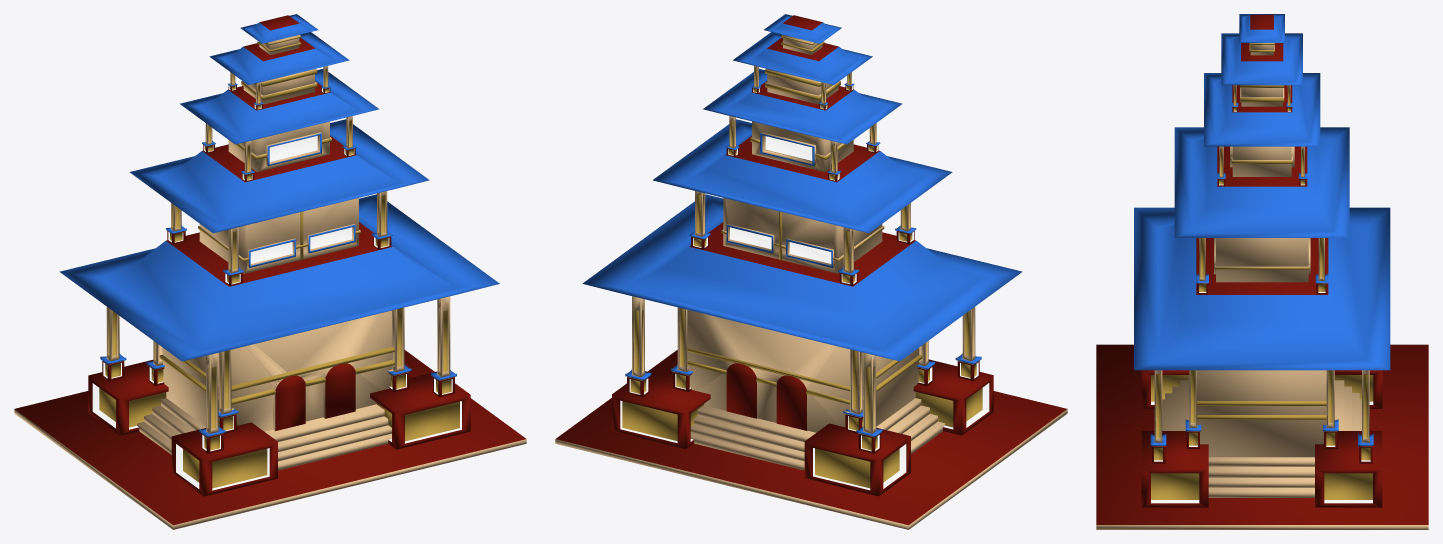
The model's file is chinesebuilding.glb.
The picture shows the model from 3 angles, left to right: view 1: azimuth 30°, elevation 25°; view 2: azimuth 150°, elevation 25°; view 3: azimuth 270°, elevation 25°; orthographic projection. The views are drawn at different scales.
Visible parts, largest first — view 1: Chinese Large Building; view 2: Chinese Large Building; view 3: Chinese Large Building.
Part boxes in pixels (box(x1,y1,x2,y2)): Chinese Large Building: box(14, 14, 526, 529); Chinese Large Building: box(555, 14, 1067, 529); Chinese Large Building: box(1096, 14, 1428, 529).
Size of the model in its own units: 92.11 by 101 by 71.78.
